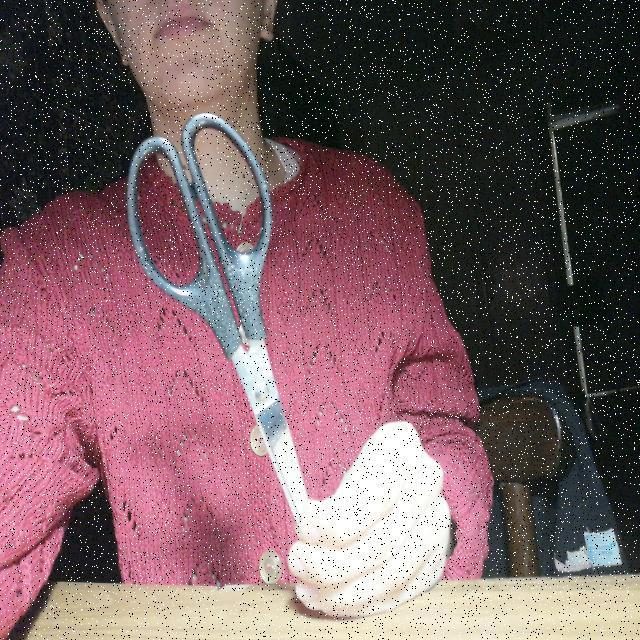scissors: (124, 97, 334, 597)
